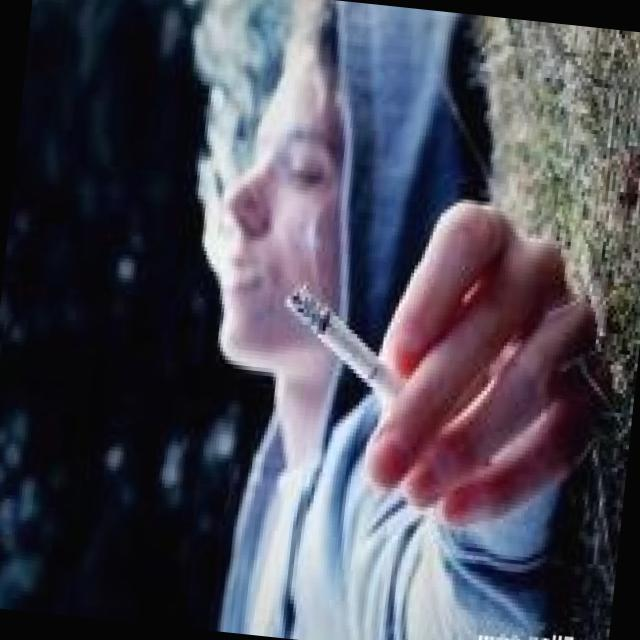smoke: (277, 284, 423, 411)
